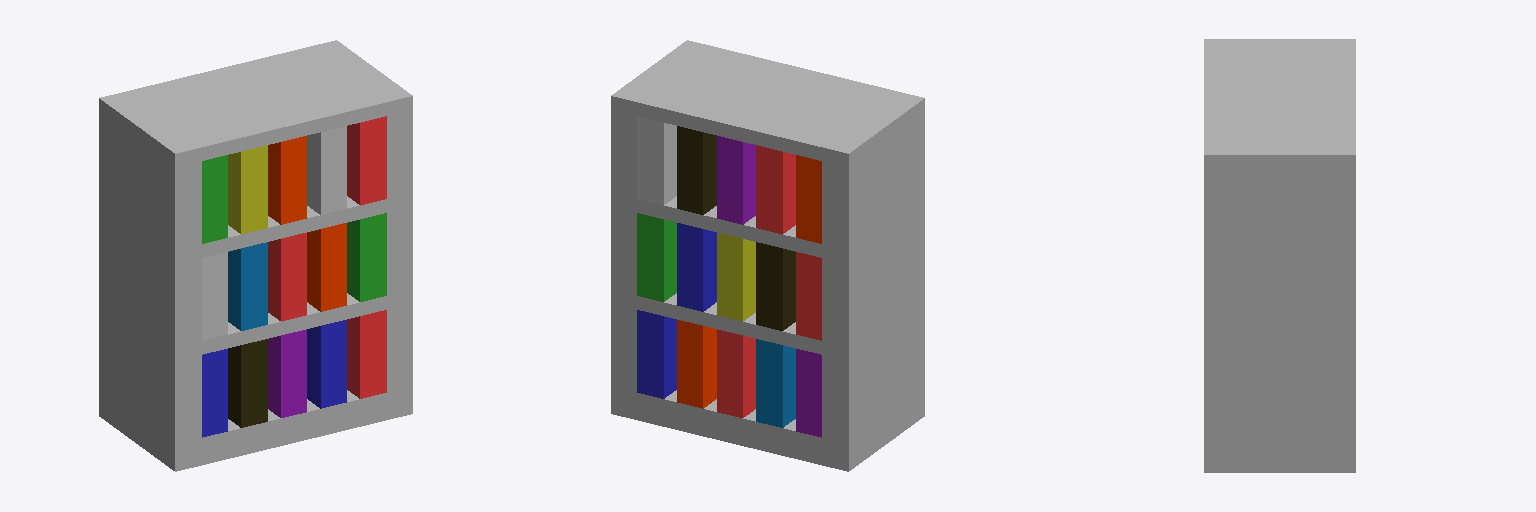
The model's file is LibraryShelf.obj.
The picture shows the model from 3 angles: view 1: azimuth 30°, elevation 25°; view 2: azimuth 150°, elevation 25°; view 3: azimuth 270°, elevation 25°; orthographic projection.
Size of the model in its own units: 1.8 by 2.3 by 1.